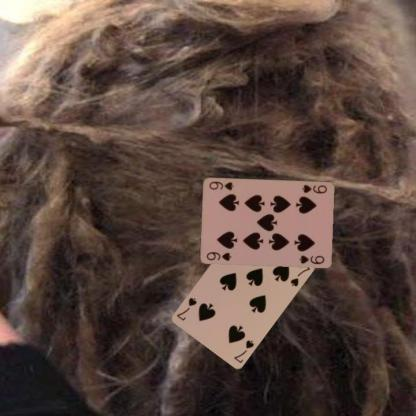7s: (231, 337, 255, 364)
9s: (299, 182, 328, 195), (204, 250, 232, 262)
